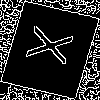X: (25, 25, 85, 69)
